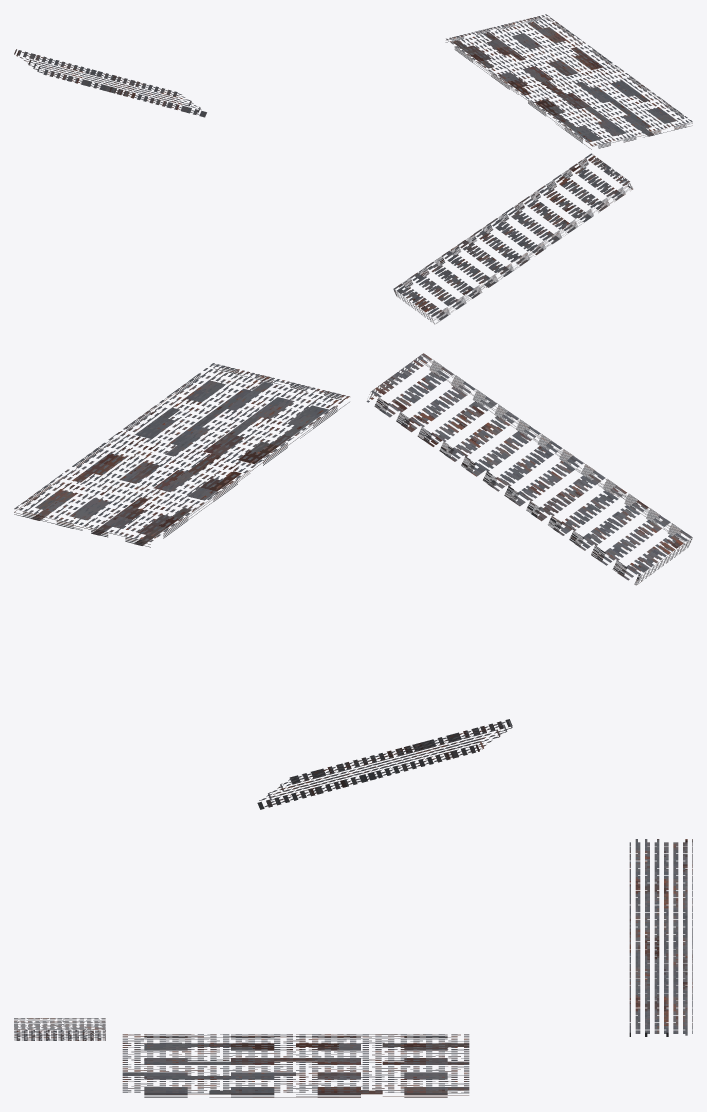
The model's file is bridges.fbx.
3 renders of one model, top to bottom at view 1: azimuth 30°, elevation 25°; view 2: azimuth 150°, elevation 25°; view 3: azimuth 270°, elevation 25°, orthographic. The views are drawn at different scales.
Visible parts, largest first — view 1: bridges; view 2: bridges; view 3: bridges.
Boxes of the visible parts, x1,y1,x2,y2 form: bridges: (14, 14, 692, 324); bridges: (14, 353, 692, 809); bridges: (14, 839, 692, 1097).
Bounding box in the file's own units: 40.07 × 8.51 × 45.57.
